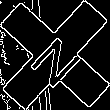N_NE: (23, 23, 87, 87)
